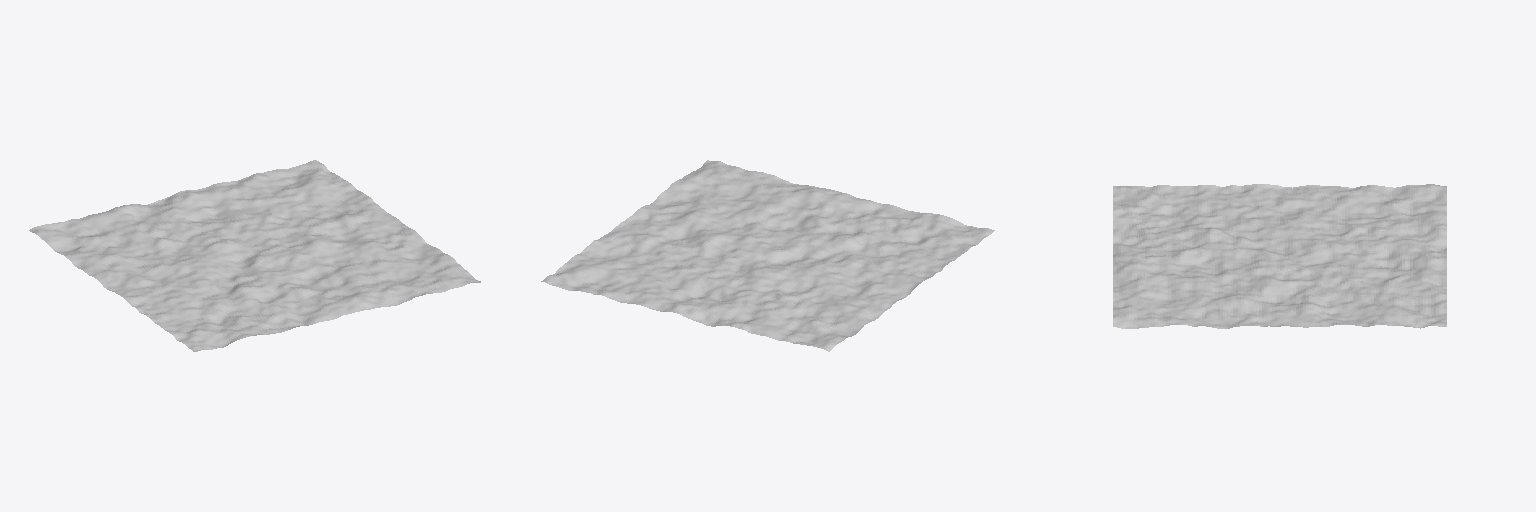
The model's file is mapv1.obj.
3 views of the same model, side by side, from view 1: azimuth 30°, elevation 25°; view 2: azimuth 150°, elevation 25°; view 3: azimuth 270°, elevation 25° (orthographic).
Size of the model in its own units: 179 by 5.31 by 179.